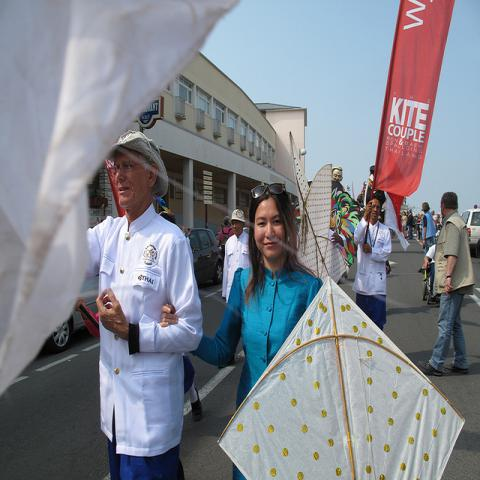car: (50, 264, 100, 352), (190, 227, 223, 285), (460, 205, 480, 260)
